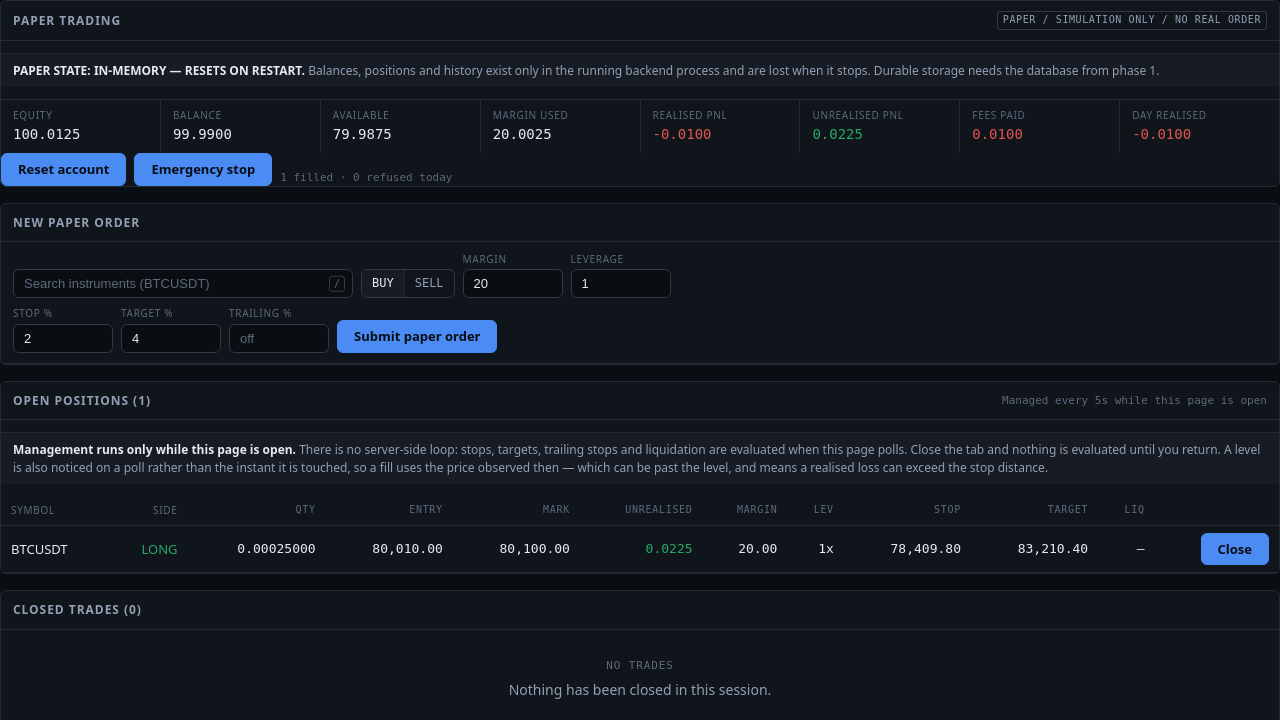
Test: PaperPage › shows the refusal detail, not only the code
Expected: the text "Equity" is shown, [13,108,52,122]
Click the button "Submit paper order". click: (417, 336)
box: [337,320,498,353]
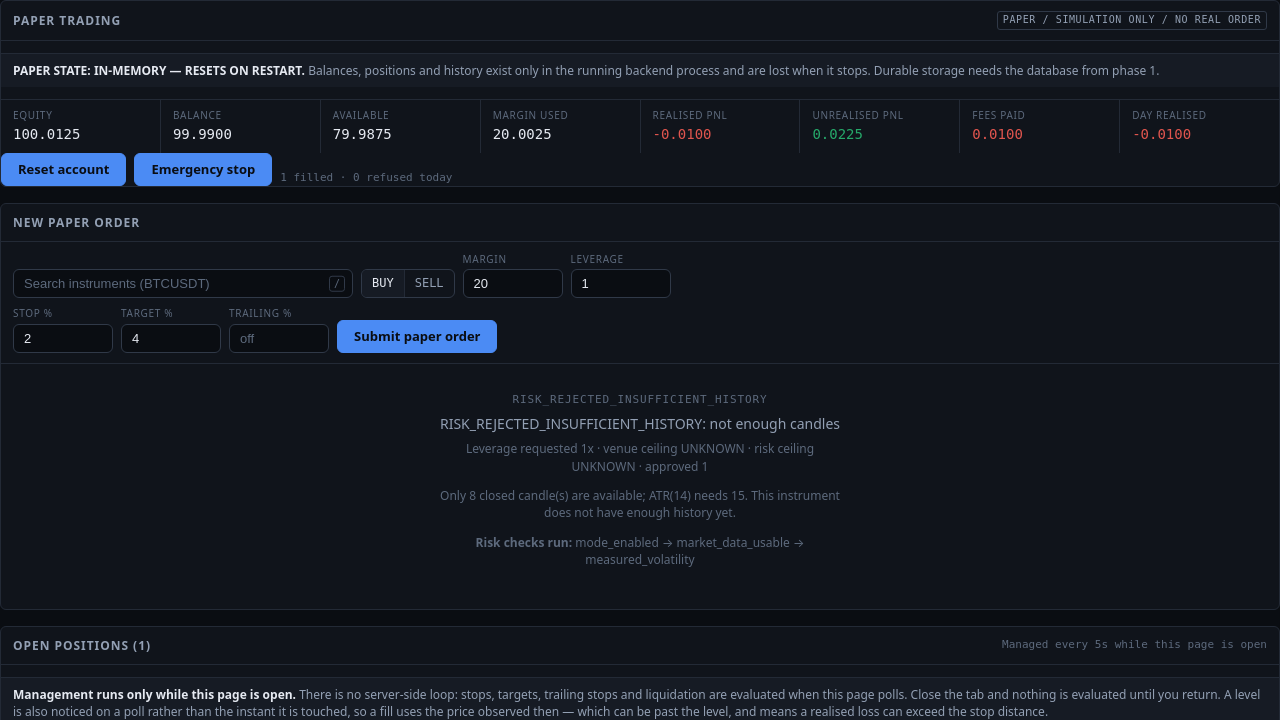
Expected: the text "does not have enough history yet" is shown, [440,487,840,521]
